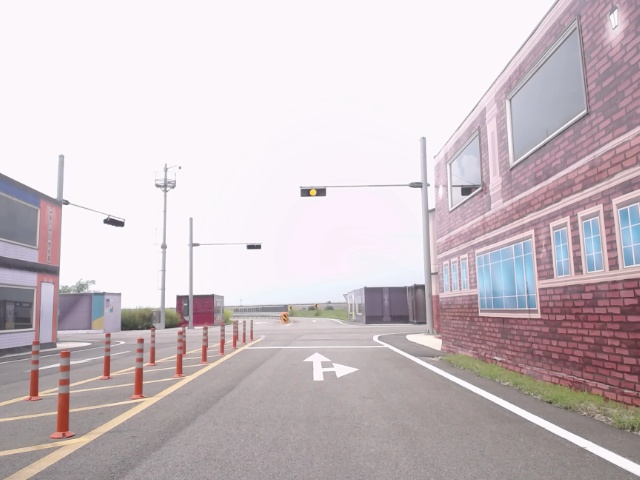orange_3: (301, 187, 326, 196)
